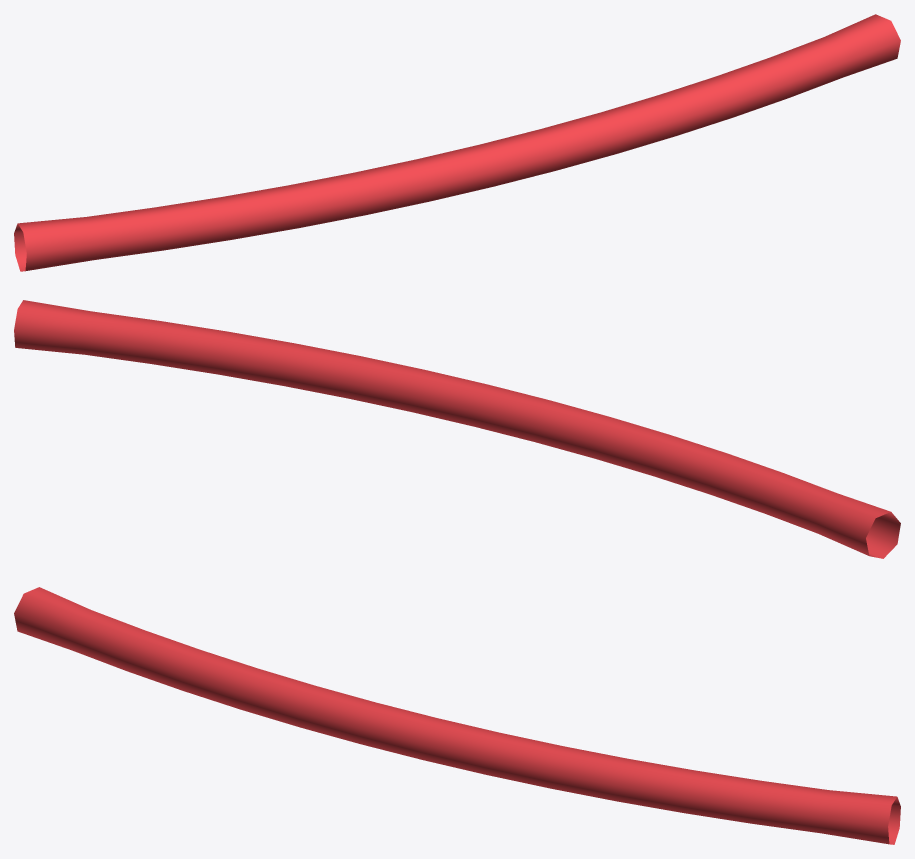
Rendered from Norris_Maze_Red_Wire_C2.fbx.
The picture shows the model from 3 angles, top to bottom: view 1: azimuth 30°, elevation 25°; view 2: azimuth 150°, elevation 25°; view 3: azimuth 330°, elevation 25°; orthographic projection.
Visible parts, largest first — view 1: WireCurve8; view 2: WireCurve8; view 3: WireCurve8.
Part boxes in pixels (left/top/right/bottom): WireCurve8: left=14, top=14, right=900, bottom=271; WireCurve8: left=14, top=300, right=900, bottom=558; WireCurve8: left=14, top=587, right=900, bottom=844.
Bounding box in the file's own units: 18.96 × 0.9116 × 2.08.
